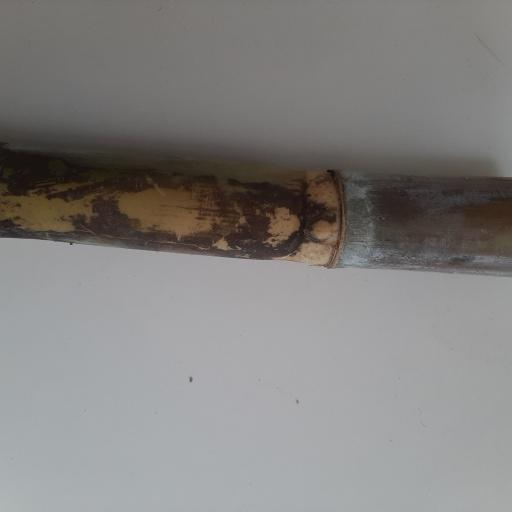Bud: (308, 218, 336, 243)
